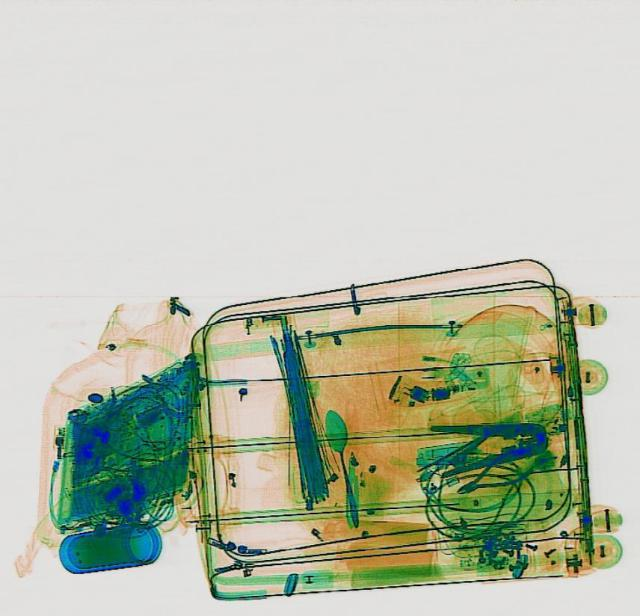Pliers: (426, 413, 550, 476), (446, 432, 552, 505)
